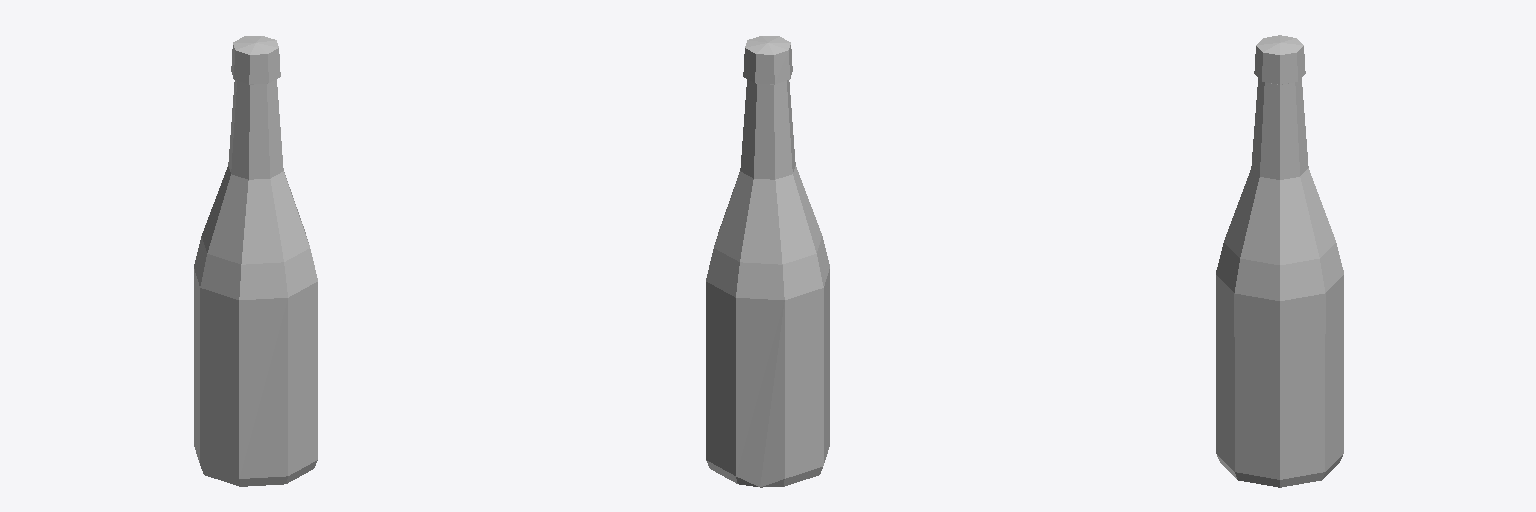
The model's file is flaska.obj.
3 views of the same model, side by side, from view 1: azimuth 30°, elevation 25°; view 2: azimuth 150°, elevation 25°; view 3: azimuth 270°, elevation 25° (orthographic).
Parts seen in each view (by area): view 1: Line002; view 2: Line002; view 3: Line002.
Part boxes in pixels (x1,y1,x2,y2): Line002: (194,36,317,486); Line002: (706,36,829,487); Line002: (1216,35,1343,487).
Size of the model in its own units: 2.69 by 9.84 by 2.69.